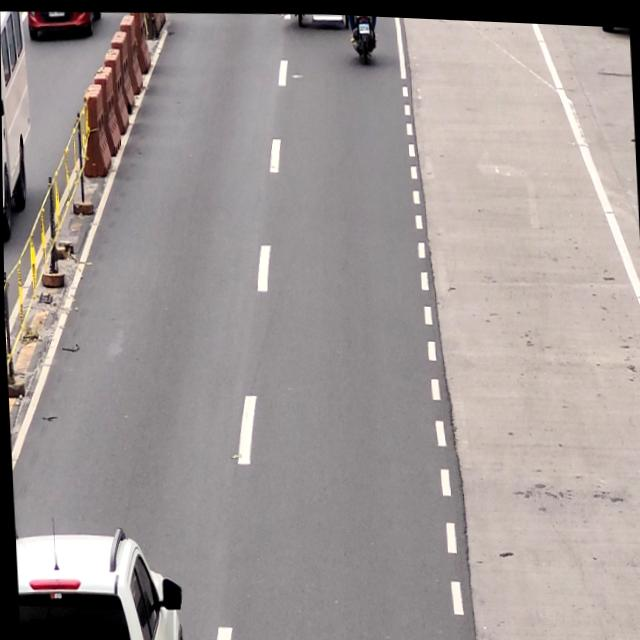Car: (13, 517, 182, 640)
